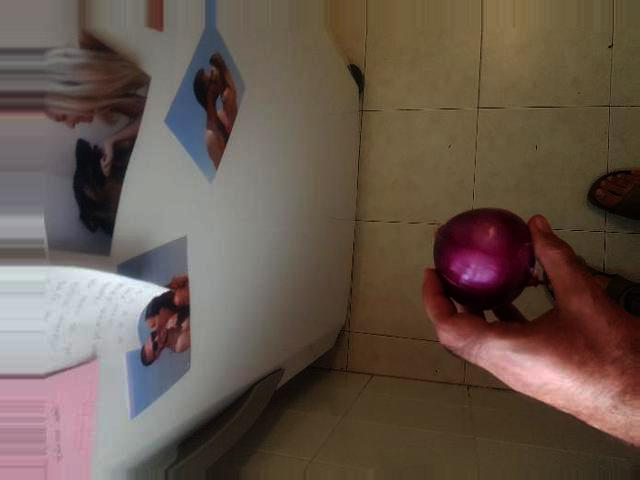onion: (429, 203, 550, 322)
